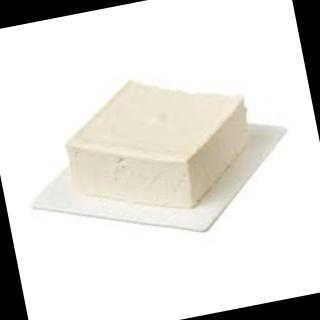Tahu: (36, 47, 283, 244)
